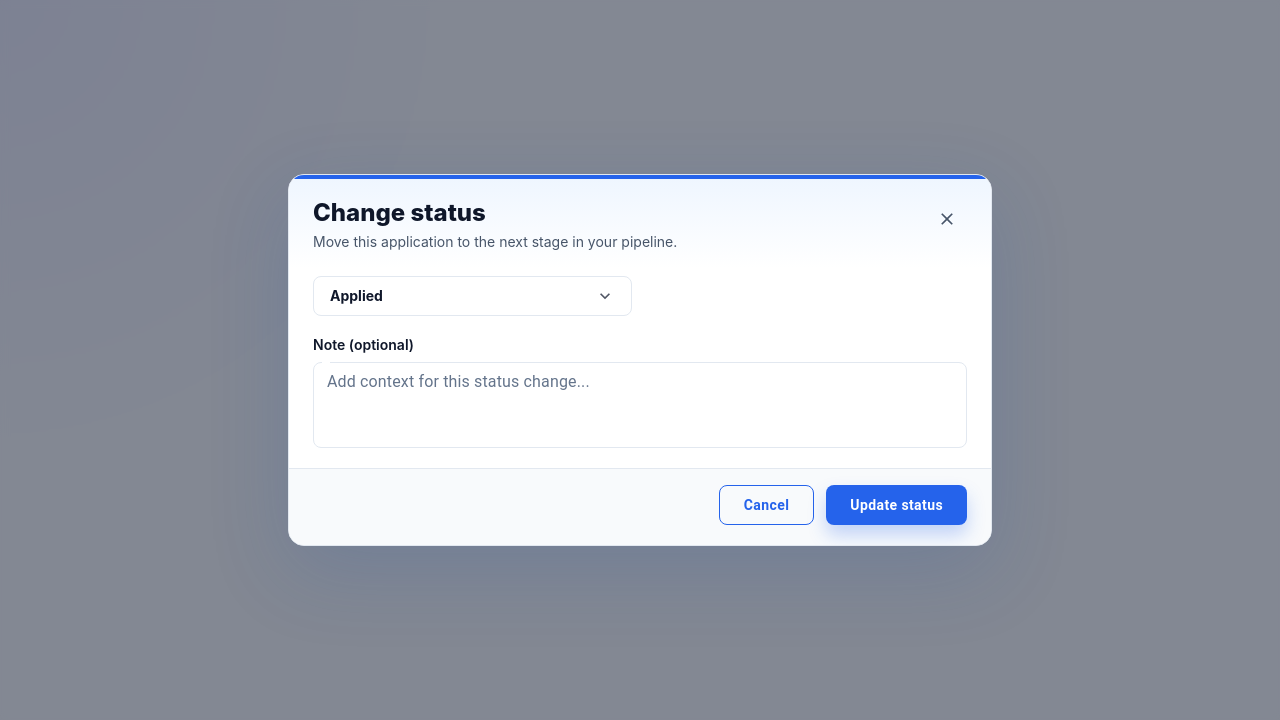
Test: StatusChangeDialog › shows an error toast if updating without changing the status
Click the button "Update status" at (897, 505), box [826,485,967,525]
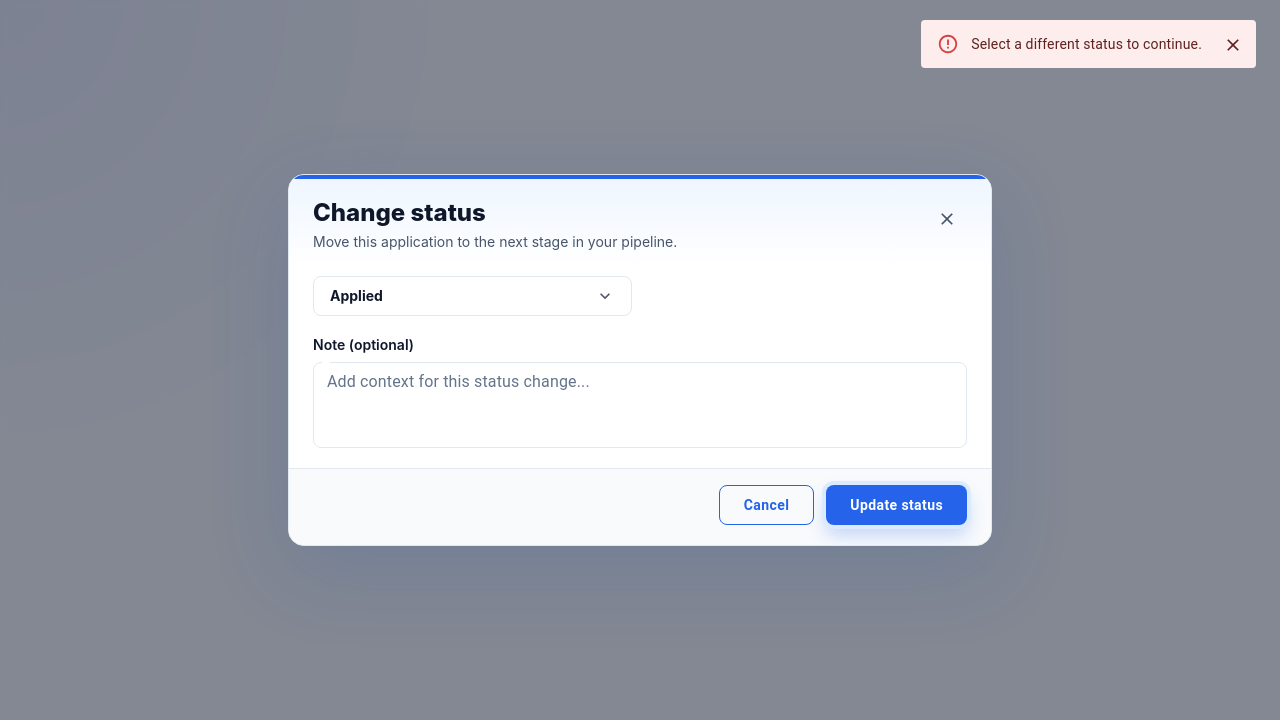
Now the text "Select a different status to continue." is shown, box [971,36,1202,52]
